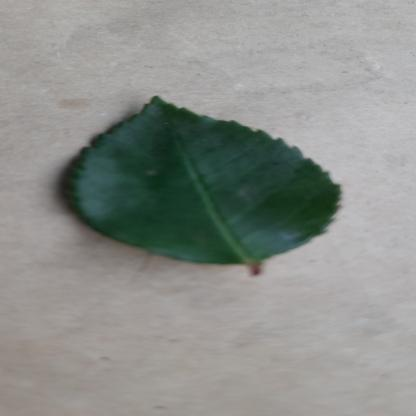normal: (55, 93, 346, 269)
